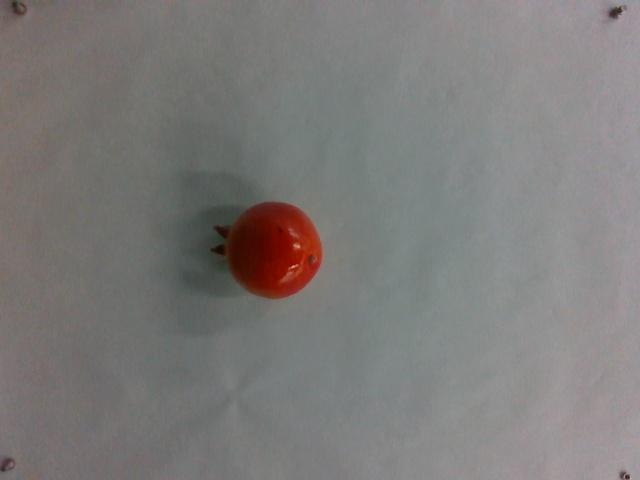pomegranate: (208, 198, 325, 300)
